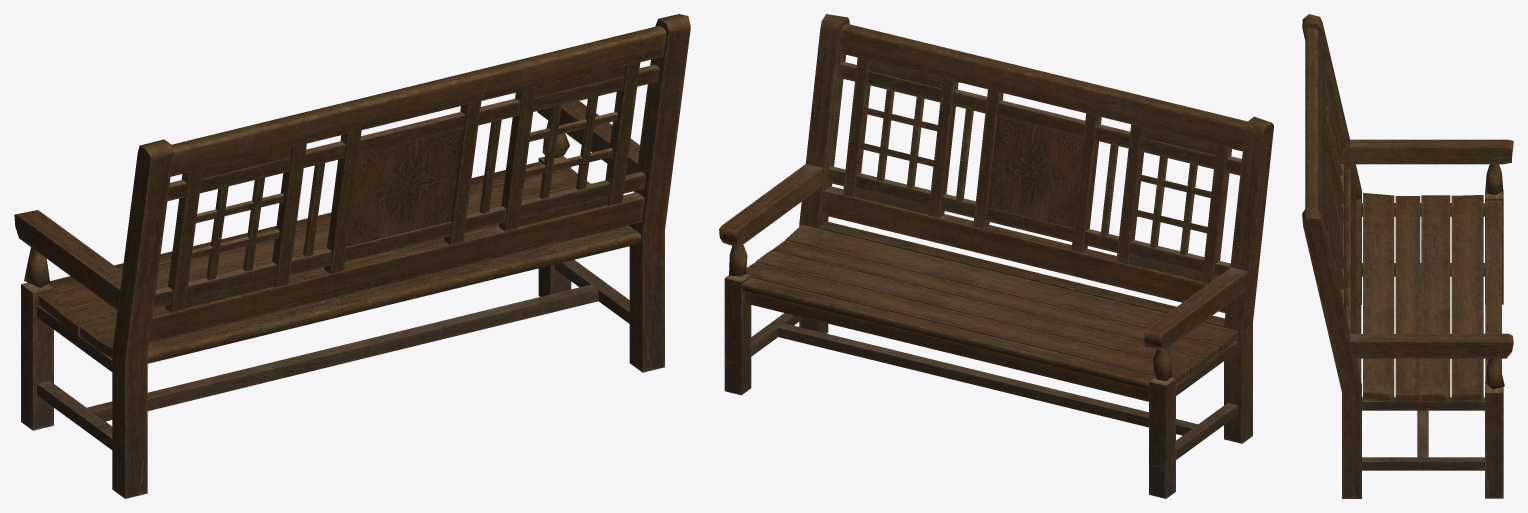
File: SM_bench_01.fbx
3 views of the same model, side by side, from view 1: azimuth 30°, elevation 25°; view 2: azimuth 150°, elevation 25°; view 3: azimuth 270°, elevation 25° (orthographic). The views are drawn at different scales.
Visible parts, largest first — view 1: SM_bench_01_LOD0; view 2: SM_bench_01_LOD0; view 3: SM_bench_01_LOD0.
Part boxes in pixels (left/top/right/bottom): SM_bench_01_LOD0: left=14, top=14, right=690, bottom=498; SM_bench_01_LOD0: left=719, top=14, right=1273, bottom=498; SM_bench_01_LOD0: left=1302, top=14, right=1513, bottom=498.
Size of the model in its own units: 204 by 89.25 by 131.
1 material, 1 textured.
